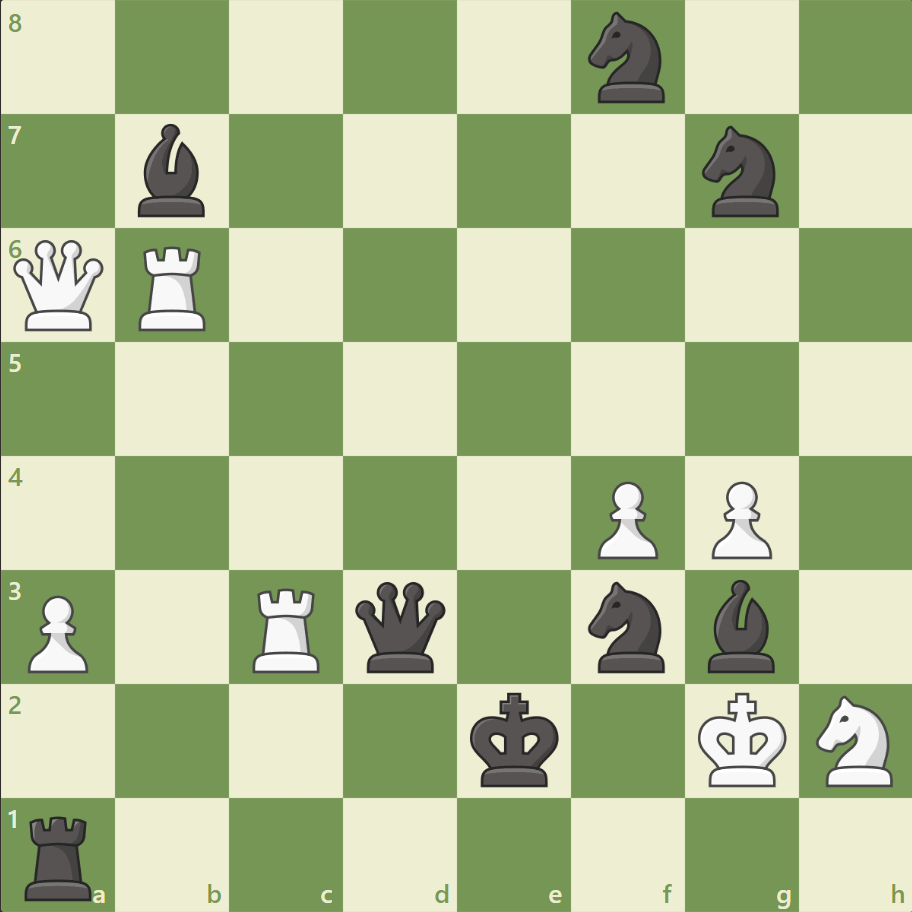K: (692, 685, 792, 793)
N: (806, 688, 903, 791)
P: (701, 473, 776, 564), (20, 586, 95, 677), (588, 473, 662, 564)
Q: (10, 236, 109, 335)
R: (246, 579, 329, 676), (133, 239, 215, 336)
b: (131, 120, 215, 222), (698, 574, 782, 676)
k: (465, 685, 565, 793)
n: (579, 7, 676, 110), (692, 121, 789, 223), (579, 575, 676, 677)
q: (351, 576, 450, 676)
r: (19, 806, 102, 904)
